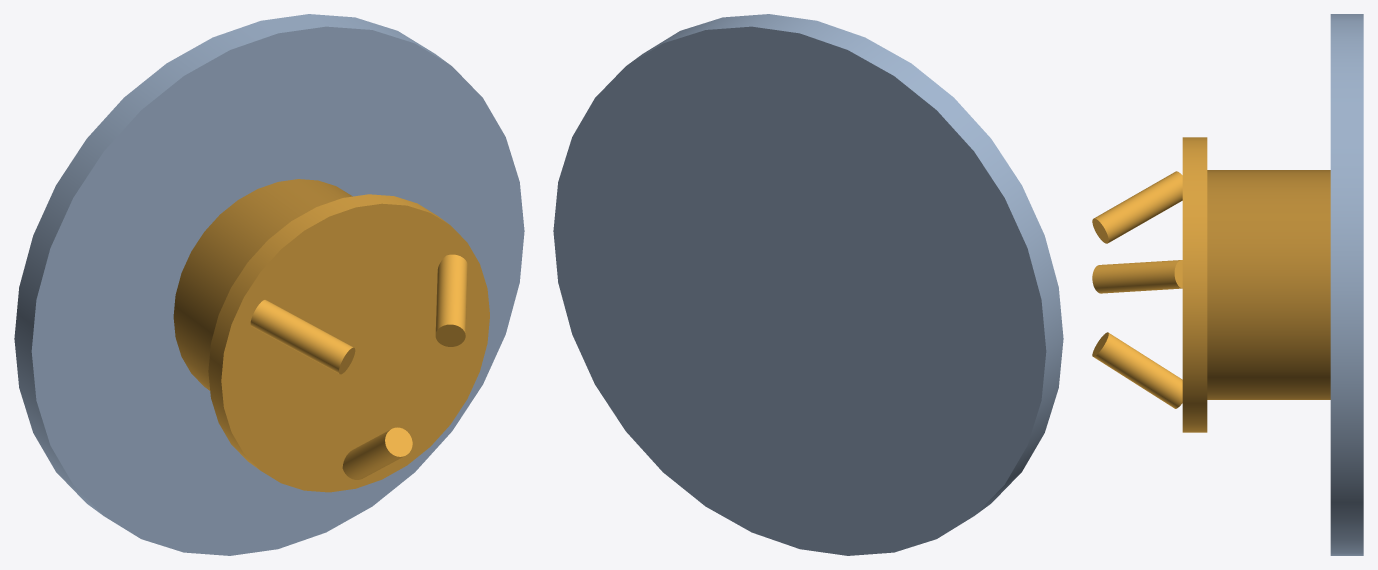
Rendered from vde_platform.obj.
3 views of the same model, side by side, from view 1: azimuth 30°, elevation 25°; view 2: azimuth 150°, elevation 25°; view 3: azimuth 270°, elevation 25° (orthographic). The views are drawn at different scales.
Visible parts, largest first — view 1: vde_platform; view 2: vde_platform; view 3: vde_platform.
Boxes of the visible parts, x1,y1,x2,y2 form: vde_platform: (14,14,524,555); vde_platform: (553,14,1063,555); vde_platform: (1092,14,1363,555).
Bounding box in the file's own units: 1.32 × 1.32 × 0.6601.
